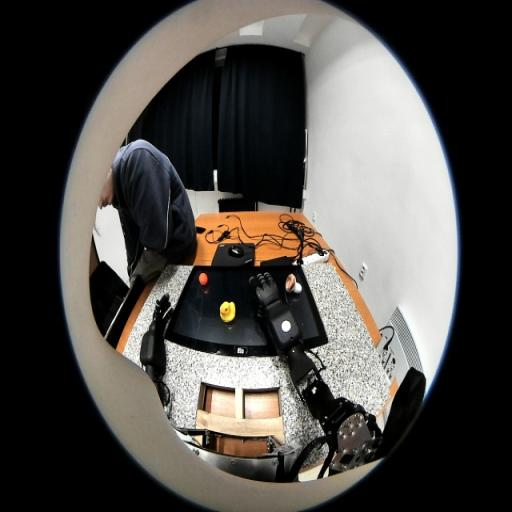Duck: (220, 301, 236, 323)
LeftHand: (153, 310, 166, 326)
Mushroom: (286, 273, 302, 293)
Orange: (198, 273, 208, 285)
RightHand: (258, 283, 278, 300)
